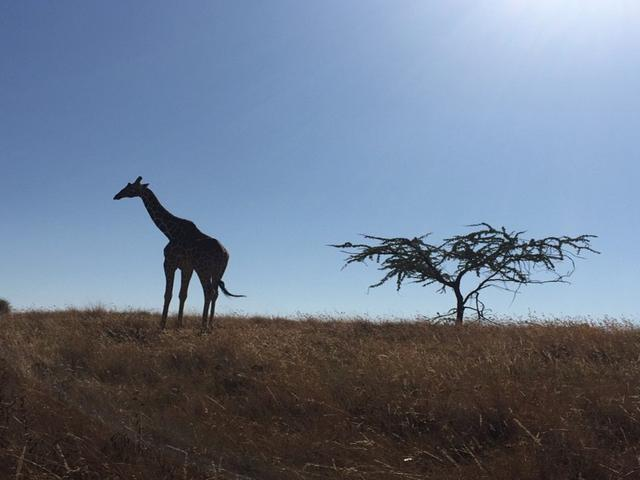giraffe: (89, 161, 276, 357)
